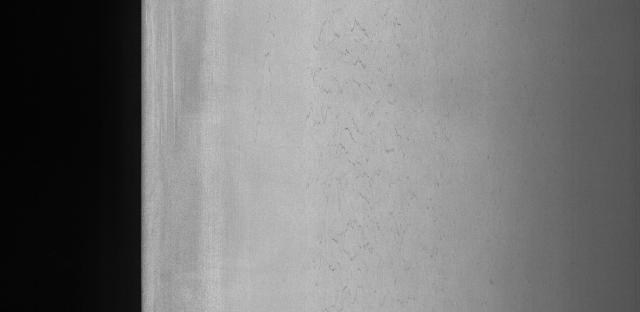silk_spot: (311, 0, 443, 291)
